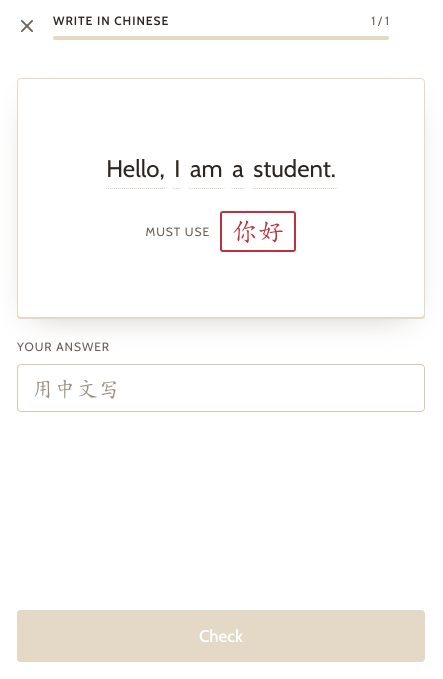
Test: SentenceWrite — translation feature › shows "No translation found" when no match exists
The width and height of the screenshot is (443, 679).
Note: Select "I" which won't match any sentence word meaning
Click the button "I" at (177, 170), box [172, 150, 182, 189]
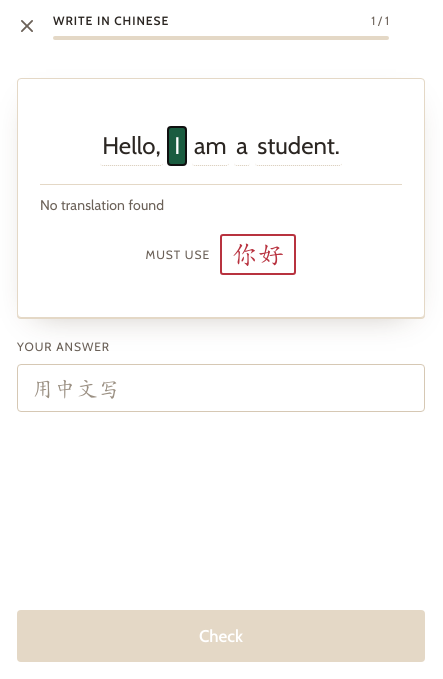
expect the text "No translation found" is shown: met, box [40, 196, 164, 214]
